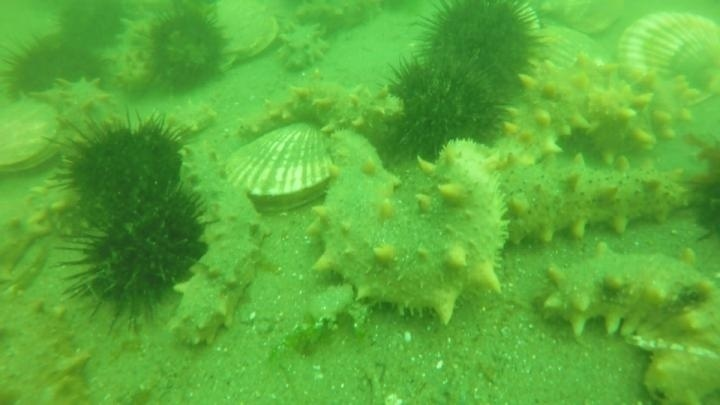echinus: (53, 174, 202, 312), (52, 109, 191, 226), (377, 54, 509, 166), (412, 1, 547, 104), (141, 5, 232, 97), (1, 31, 107, 107), (54, 1, 130, 51), (685, 160, 719, 241)
holothurian: (307, 136, 510, 326), (533, 241, 720, 405), (482, 55, 700, 160), (167, 142, 268, 353), (493, 151, 701, 249), (1, 204, 95, 405), (237, 78, 407, 145), (29, 73, 119, 143), (125, 95, 223, 143), (106, 13, 160, 94), (274, 17, 334, 74), (291, 1, 386, 36)
scallop: (220, 122, 346, 217), (611, 7, 720, 114), (517, 21, 616, 81), (1, 94, 64, 179), (208, 1, 283, 68), (535, 1, 627, 39)
